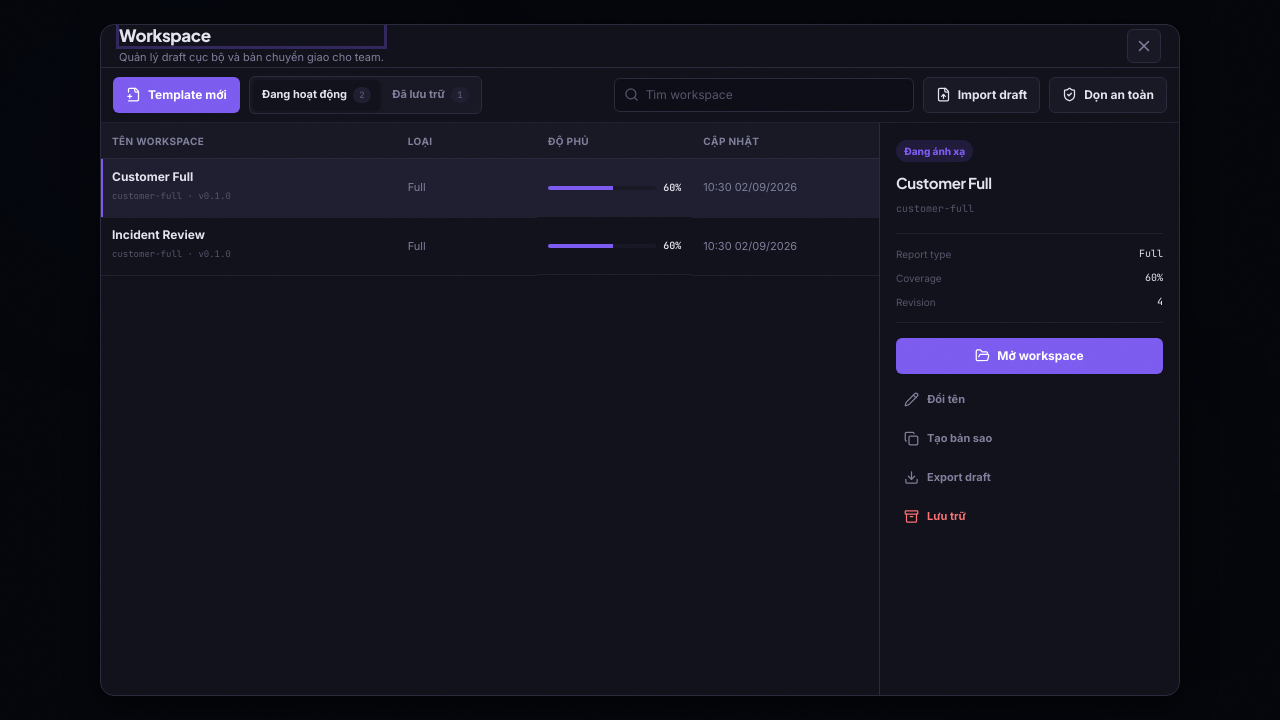
Test: Template Studio workspace manager › filters the active table without hiding the archived count
The width and height of the screenshot is (1280, 720).
Type "incident" into the search field labelled "Tìm workspace" at (764, 95), box [614,78,914,112]
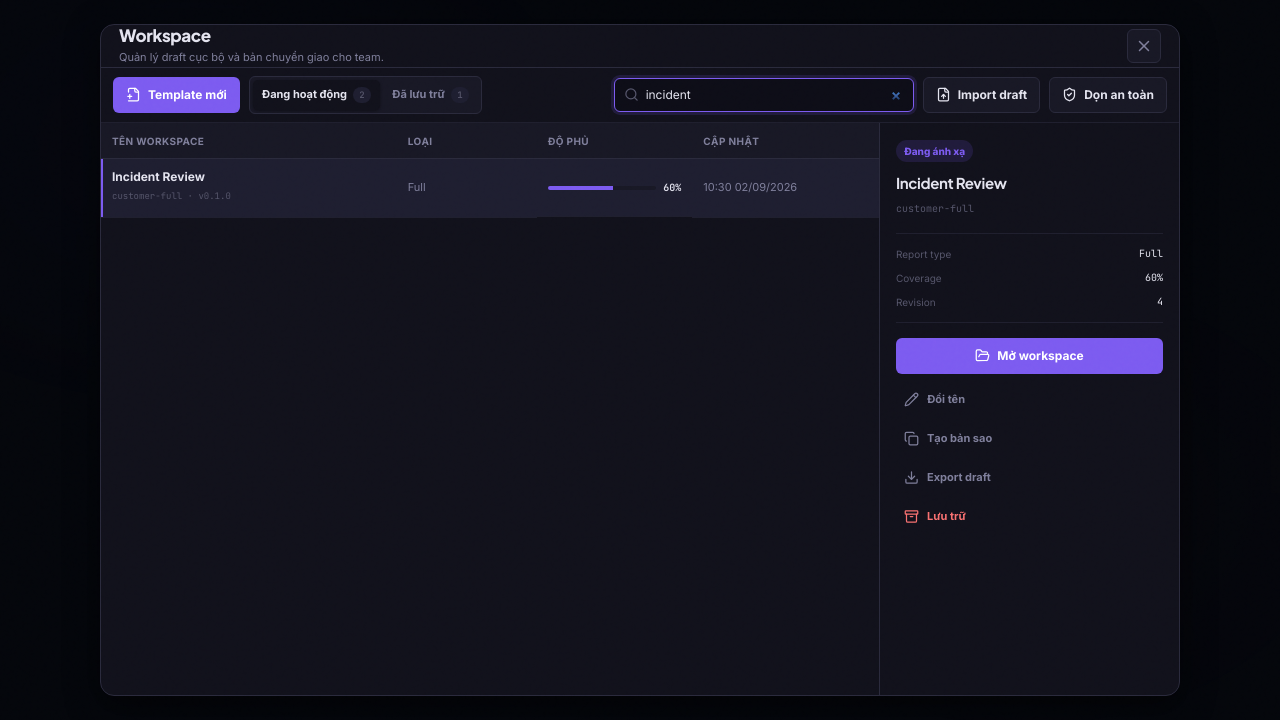
Expected: the tab "Đã lưu trữ 1" is shown, [383,80,478,110]
Now the text "Incident Review" is shown 2 times, box [112,169,205,184]; [896,173,1007,192]
Now the button "Customer Full" is gone
